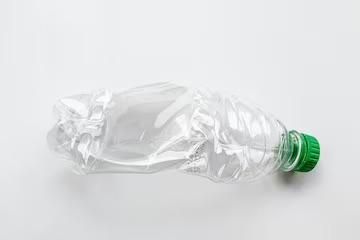plasticbottle: (43, 80, 320, 186)
